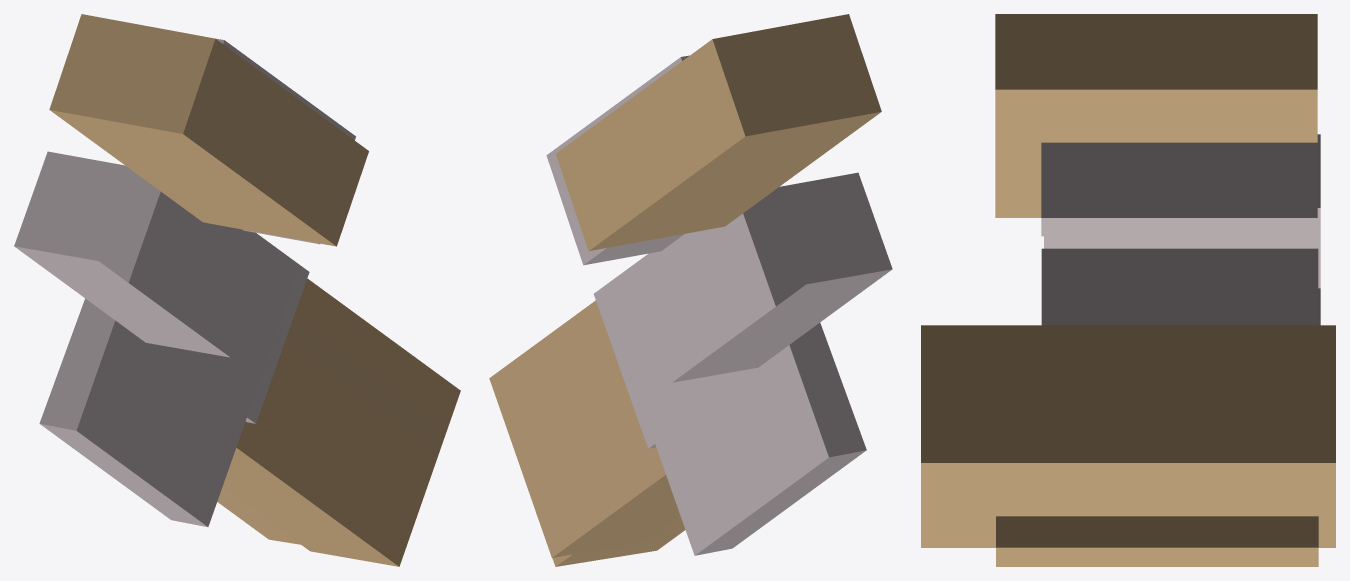
3 renders of one model, left to right at view 1: azimuth 30°, elevation 25°; view 2: azimuth 150°, elevation 25°; view 3: azimuth 270°, elevation 25°, orthographic. The views are drawn at different scales.
Parts seen in each view (by area): view 1: 0_2_0; view 2: 0_2_0; view 3: 0_2_0.
Part boxes in pixels (x1,y1,x2,y2): 0_2_0: (14, 14, 460, 566); 0_2_0: (489, 14, 892, 566); 0_2_0: (921, 14, 1335, 566).
Size of the model in its own units: 20.23 by 34.81 by 27.
